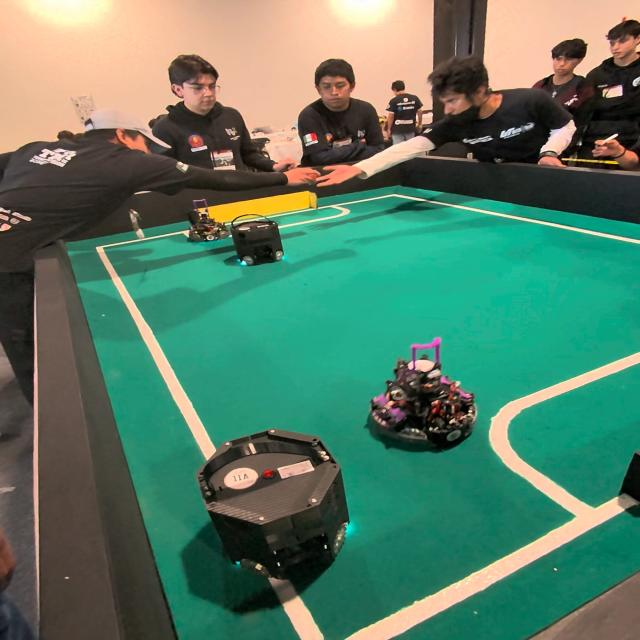Robot: (188, 431, 370, 573), (370, 353, 480, 459), (223, 211, 304, 267), (184, 195, 226, 243)
